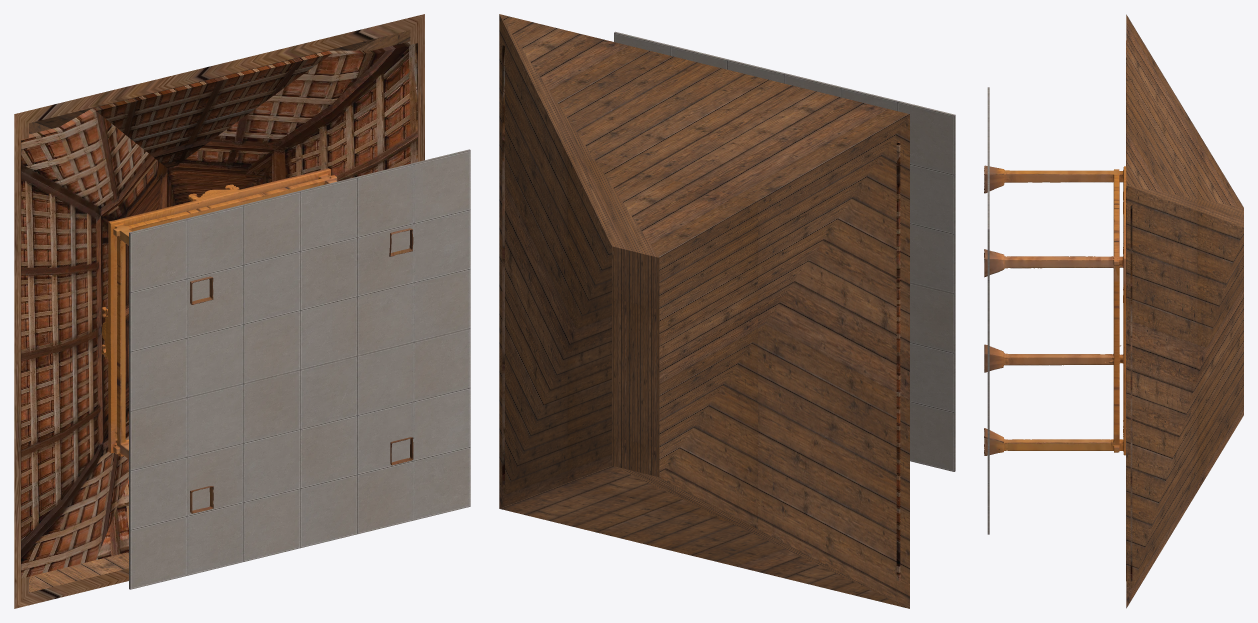
3 renders of one model, left to right at view 1: azimuth 30°, elevation 25°; view 2: azimuth 150°, elevation 25°; view 3: azimuth 270°, elevation 25°, orthographic. The views are drawn at different scales.
Visible parts, largest first — view 1: Plane, Cube, Cube.023, Mesh_0; view 2: Cube.023, Plane, Cube; view 3: Cube.023, Mesh_0, Cube, Plane.
Part boxes in pixels (left/top/right/bottom): Plane: left=129, top=149, right=470, bottom=589; Cube: left=21, top=41, right=417, bottom=578; Cube.023: left=14, top=14, right=424, bottom=608; Mesh_0: left=101, top=168, right=413, bottom=513; Cube.023: left=499, top=14, right=909, bottom=608; Plane: left=614, top=31, right=955, bottom=471; Cube: left=502, top=45, right=900, bottom=580; Cube.023: left=1126, top=14, right=1243, bottom=608; Mesh_0: left=984, top=165, right=1126, bottom=455; Cube: left=1126, top=40, right=1132, bottom=581; Plane: left=987, top=87, right=989, bottom=534.
Bounding box in the file's own units: 3.7 × 4.26 × 2.37.
4 materials, 4 textured.
